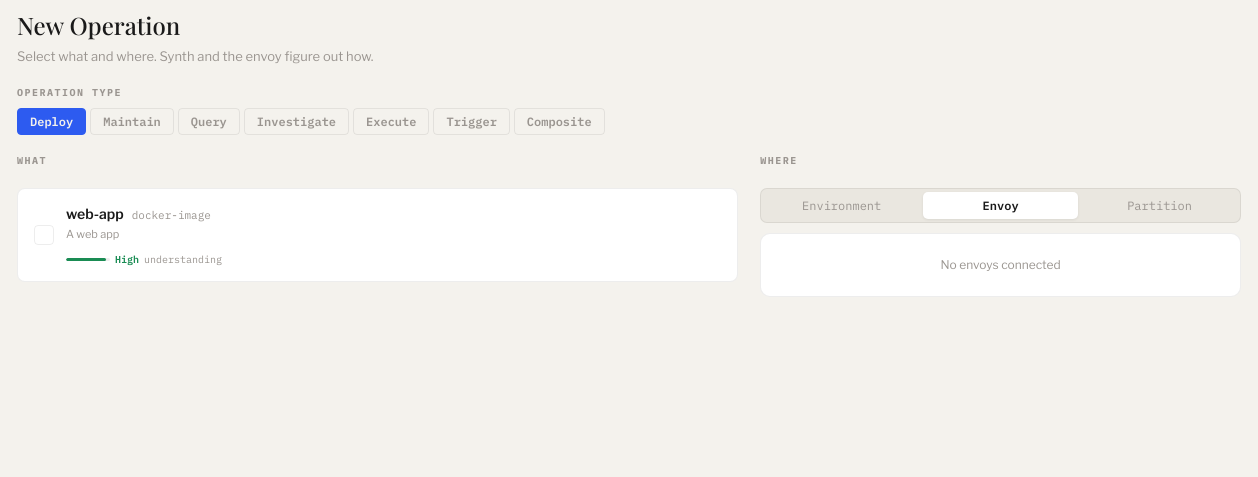
Test: OperationAuthoringPanel › composite type › adds a child operation when Add is clicked
The width and height of the screenshot is (1258, 477).
Click the button "composite". click: x=559, y=121
box: x1=514 y1=108 x2=605 y2=134
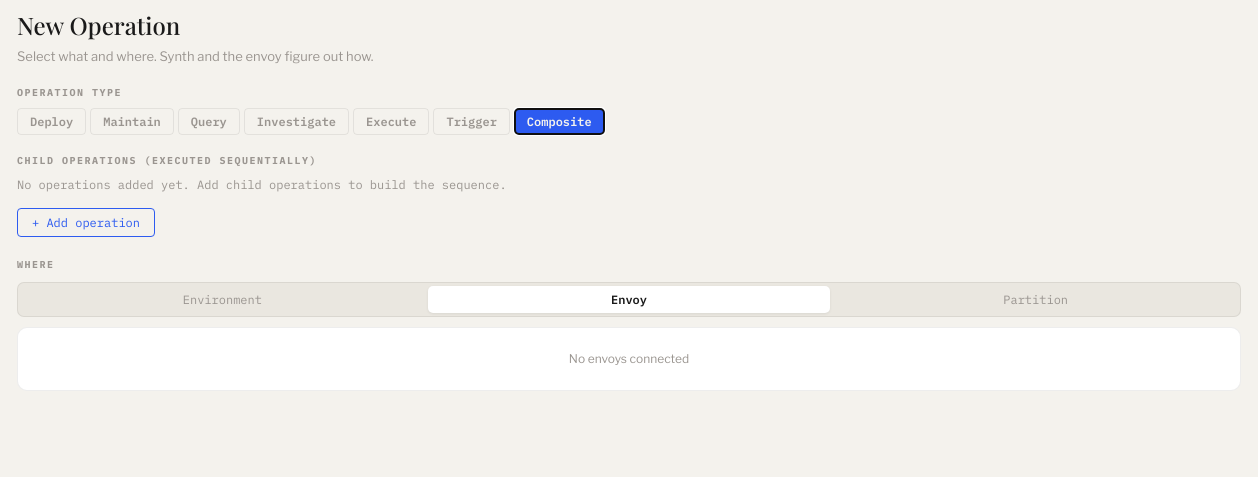
Click the button "+ Add operation". click: x=86, y=222
box: x1=17 y1=208 x2=155 y2=236
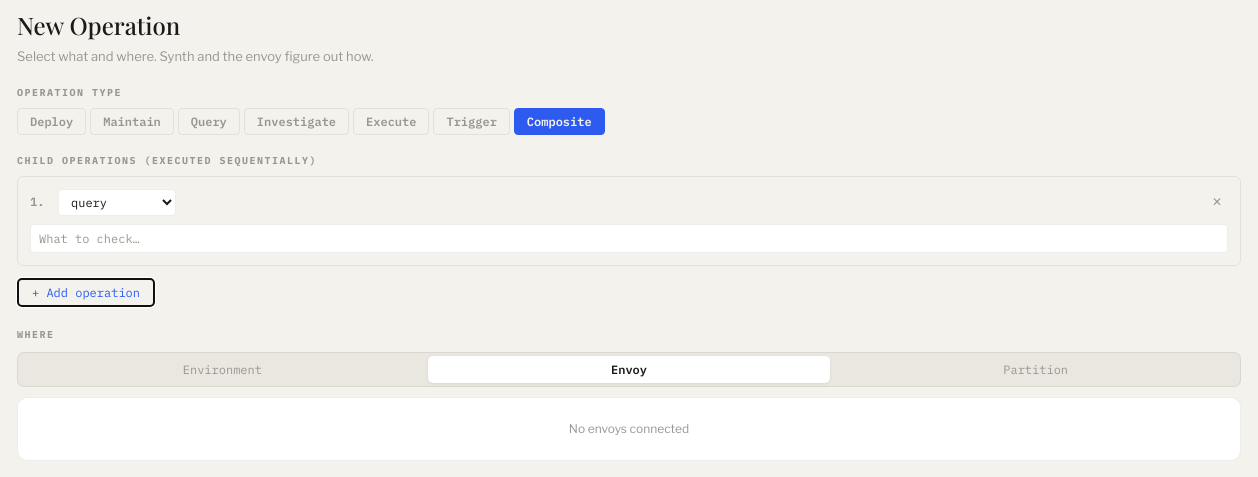
Now the text "No operations added" is gone
Now the text "1." is shown, box x1=30 y1=194 x2=44 y2=209
